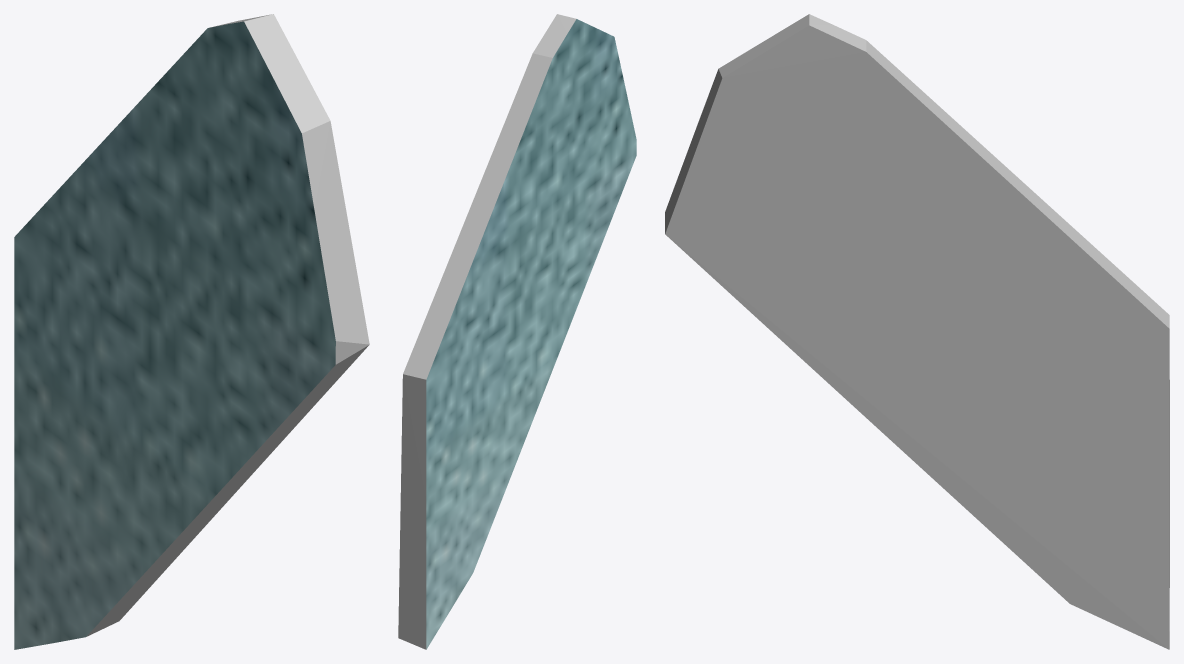
The picture shows the model from 3 angles, left to right: view 1: azimuth 30°, elevation 25°; view 2: azimuth 150°, elevation 25°; view 3: azimuth 270°, elevation 25°; orthographic projection. The views are drawn at different scales.
Visible parts, largest first — view 1: Cube_cell_Mesh; view 2: Cube_cell_Mesh; view 3: Cube_cell_Mesh.
Boxes of the visible parts, x1,y1,x2,y2 form: Cube_cell_Mesh: [14, 14, 369, 649]; Cube_cell_Mesh: [398, 14, 636, 649]; Cube_cell_Mesh: [665, 14, 1169, 649].
Size of the model in its own units: 0.0483 by 0.8522 by 0.6235.
